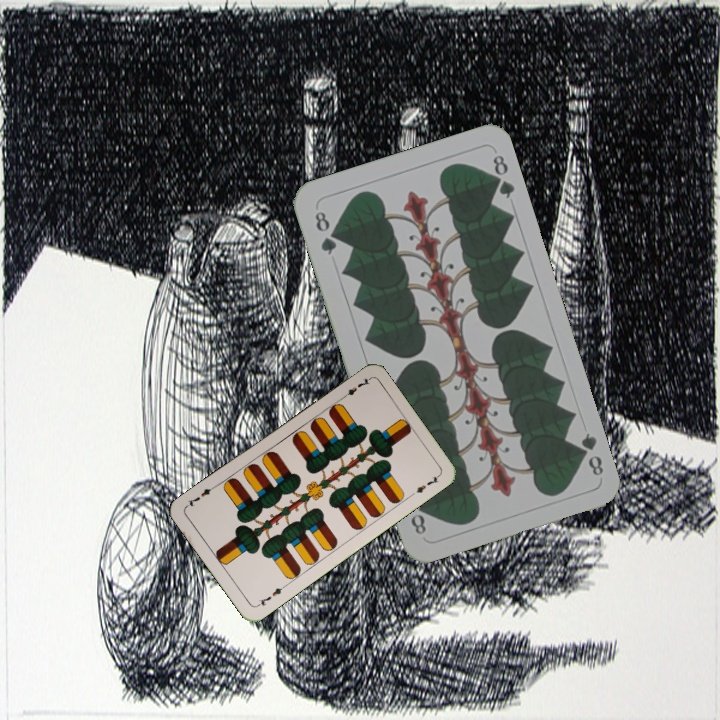E7: (253, 581, 289, 609), (337, 374, 372, 402)
G8: (572, 428, 606, 479), (310, 207, 339, 258)
